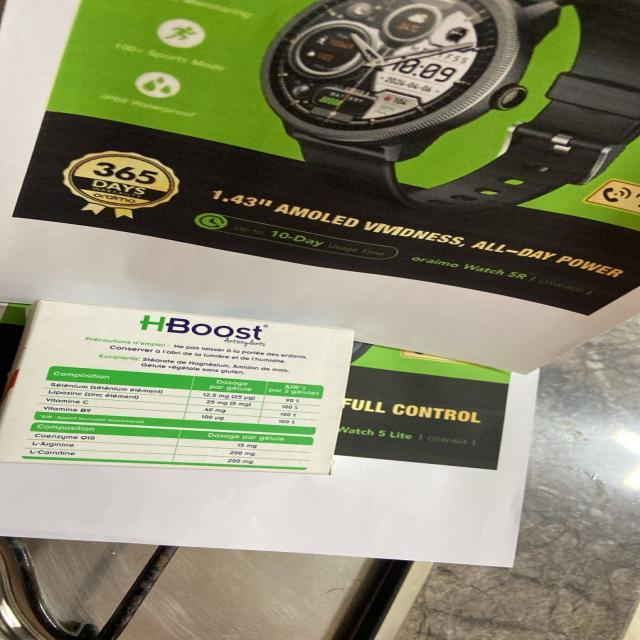Oraimo Watch 5R OSW-820: (407, 254, 599, 298)
Watch 5 Lite OSW-804: (338, 424, 479, 447)
